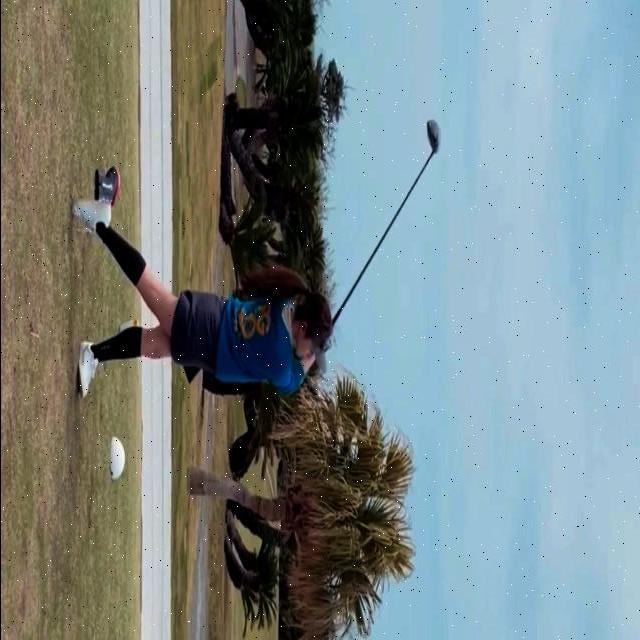ClubHandle: (308, 113, 443, 356)
ClubHead: (425, 116, 439, 154)
